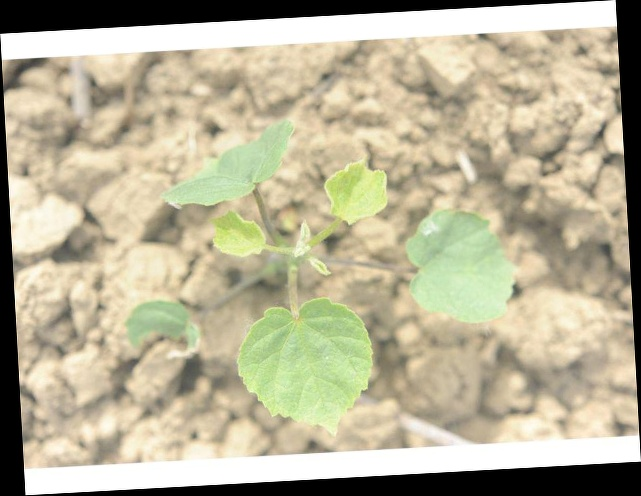velvet: (121, 116, 515, 435)
